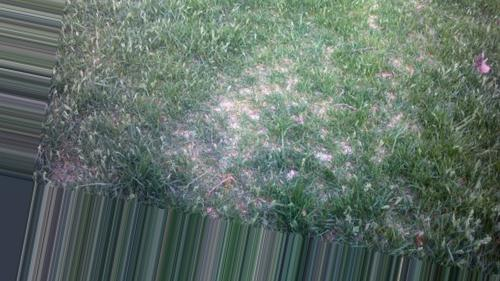patch: (214, 88, 304, 160), (369, 106, 421, 139)
